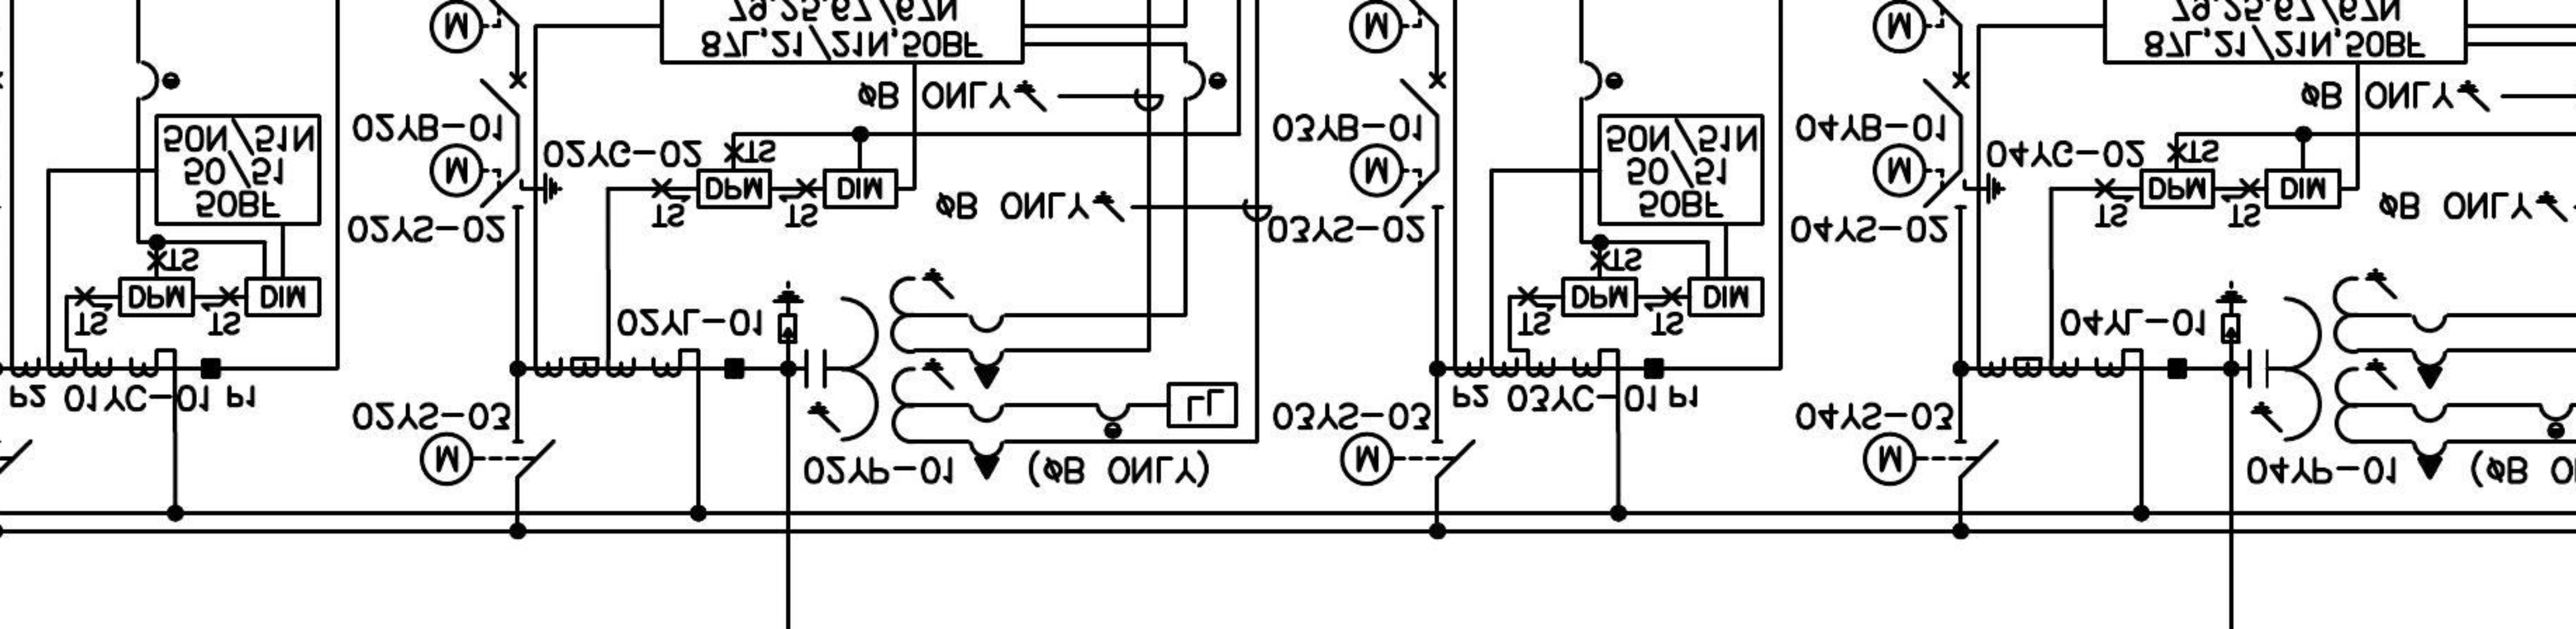115_1way_ds_w_motor: (1861, 430, 2001, 488), (419, 430, 557, 488), (1339, 432, 1477, 488), (1347, 141, 1446, 210)
115_3ways_ds_w_motor: (1871, 141, 2008, 210), (429, 141, 563, 210)
115_breaker: (1398, 71, 1447, 118), (480, 71, 527, 118), (1922, 71, 1970, 118)
115_cvt_1p: (2246, 266, 2451, 481), (803, 266, 1007, 481)
115_la: (770, 279, 805, 345), (2215, 279, 2247, 345)
DIM: (1687, 276, 1766, 319), (821, 168, 899, 210), (243, 276, 322, 317), (2264, 168, 2341, 209)
DPM: (117, 276, 195, 319), (1561, 276, 1640, 319), (2139, 168, 2216, 210), (697, 168, 772, 210)
LL: (1166, 381, 1239, 429)
